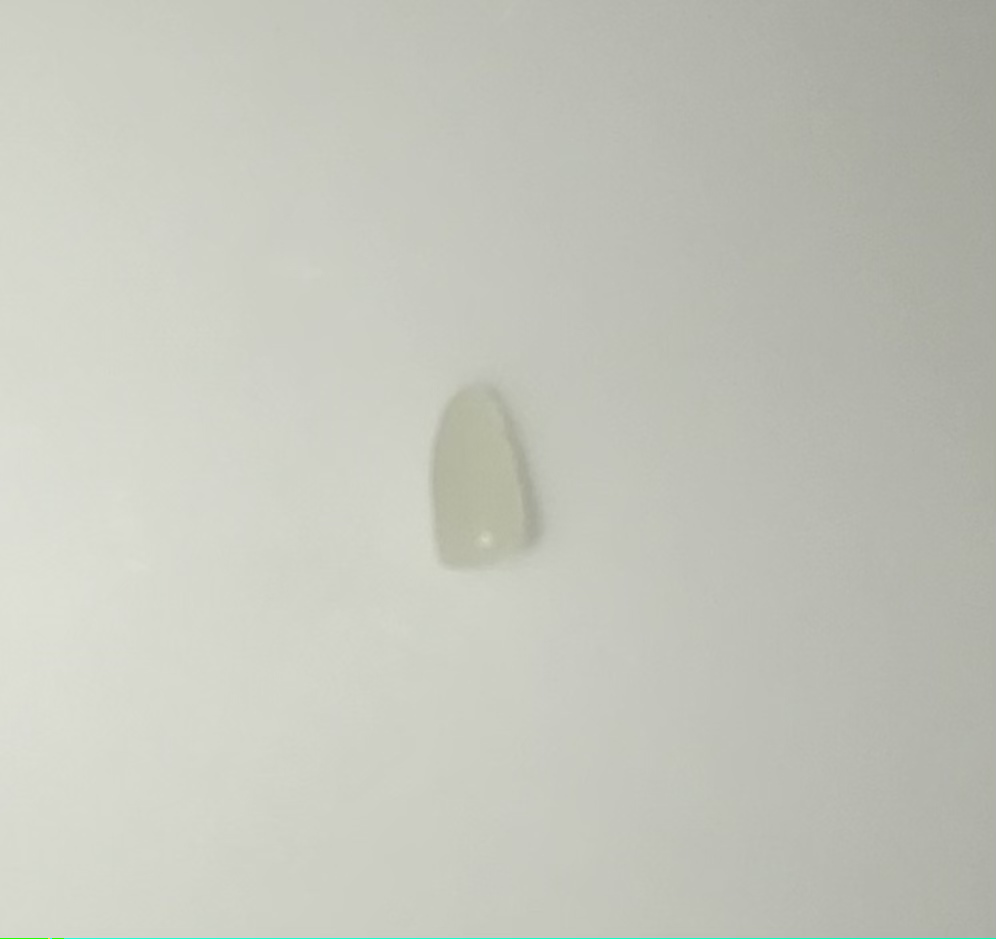Gao Tam: (421, 379, 539, 579)
